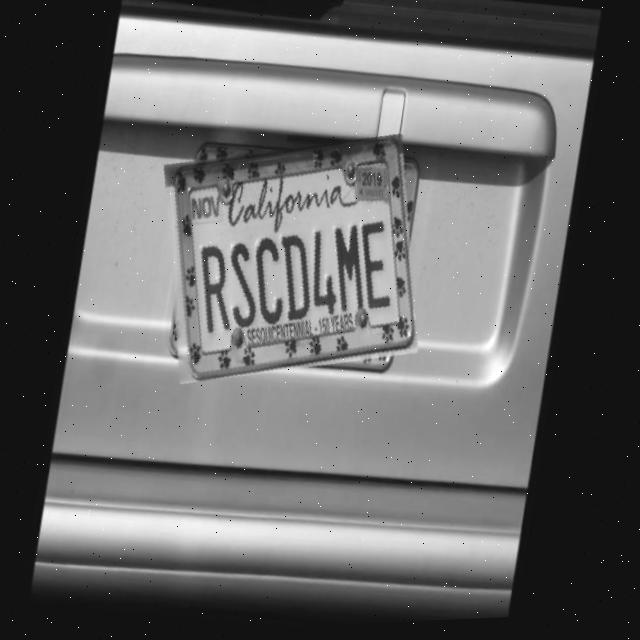LicensePlate: (144, 117, 439, 406)
